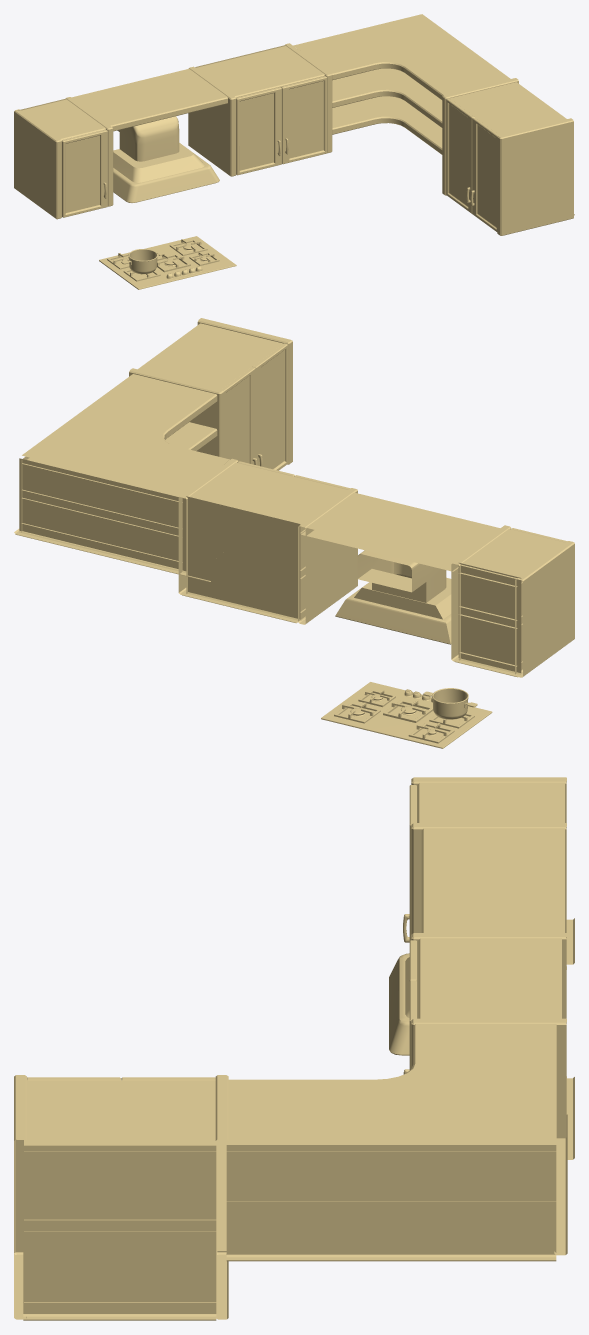
Rendered from KitchenUpper_ENVIRO.fbx.
The picture shows the model from 3 angles, top to bottom: view 1: azimuth 30°, elevation 25°; view 2: azimuth 150°, elevation 25°; view 3: azimuth 270°, elevation 25°; orthographic projection. The views are drawn at different scales.
Visible parts, largest first — view 1: polySurface335; view 2: polySurface335; view 3: polySurface335.
Part boxes in pixels (<box>): polySurface335: <box>14,14,574,289</box>; polySurface335: <box>14,318,574,748</box>; polySurface335: <box>14,777,574,1320</box>.
Bounding box in the file's own units: 5.99 × 2.25 × 3.86.
